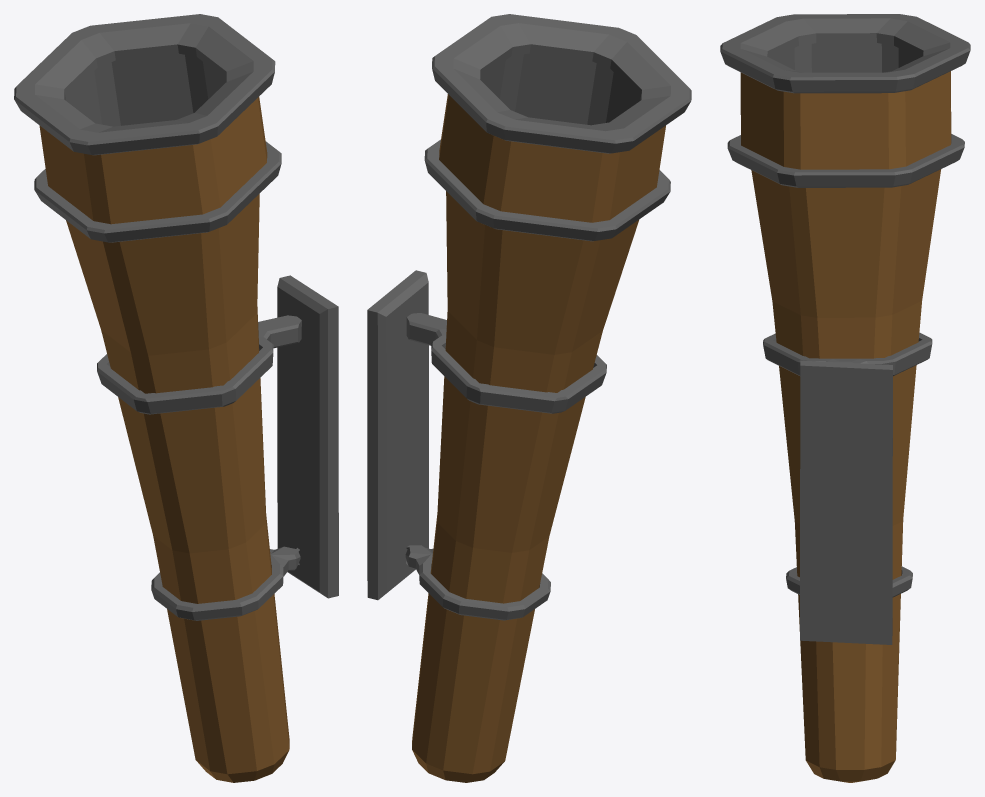
File: torch.fbx
3 renders of one model, left to right at view 1: azimuth 30°, elevation 25°; view 2: azimuth 150°, elevation 25°; view 3: azimuth 270°, elevation 25°, orthographic. The views are drawn at different scales.
Parts seen in each view (by area): view 1: Cylinder; view 2: Cylinder; view 3: Cylinder.
Boxes of the visible parts, x1,y1,x2,y2 form: Cylinder: (14, 14, 338, 782); Cylinder: (367, 14, 691, 782); Cylinder: (720, 14, 970, 782).
Size of the model in its own units: 80.62 by 208 by 67.28.
